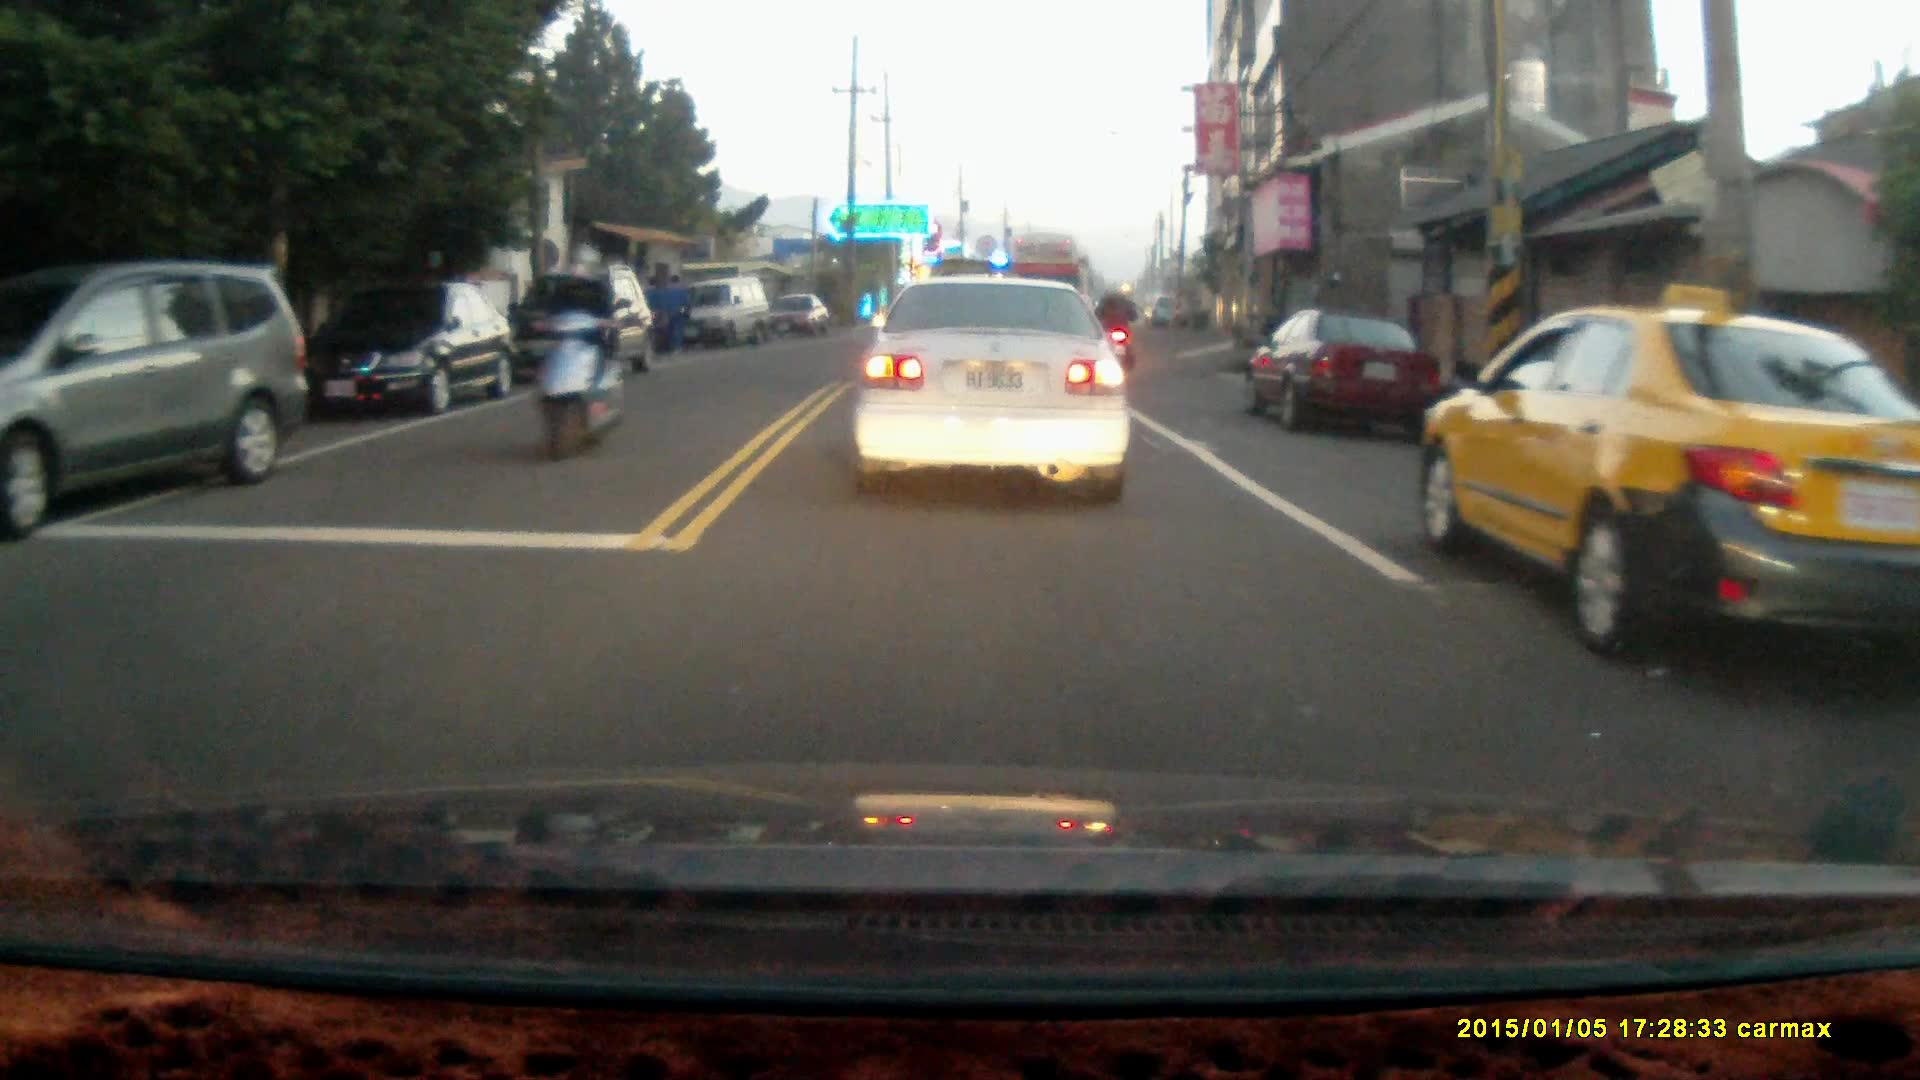pedestrian: (661, 270, 687, 354), (639, 273, 664, 352)
rider: (525, 239, 630, 465), (1084, 280, 1135, 389)
vehicle: (1415, 307, 1920, 668), (1, 262, 312, 526), (852, 280, 1128, 510), (296, 281, 529, 417), (1246, 309, 1443, 434), (500, 264, 662, 387), (667, 279, 770, 352), (754, 295, 832, 347)
